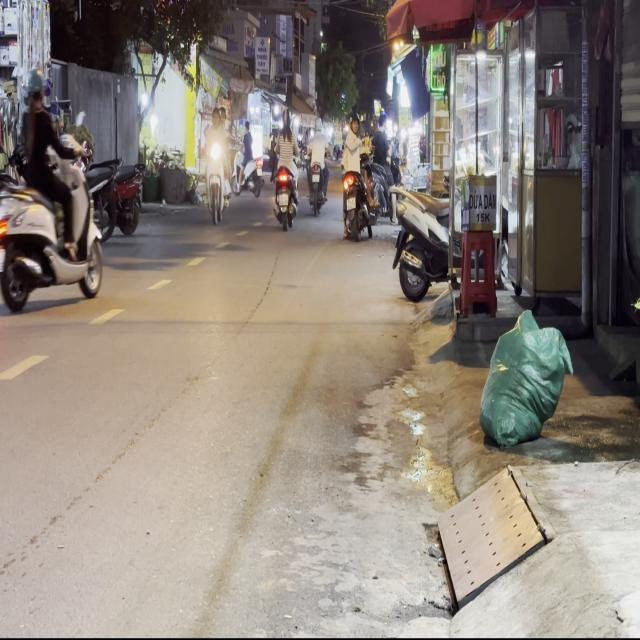helmet: (24, 69, 44, 109)
licenseplate: (0, 67, 106, 316)
nohelmet: (0, 246, 4, 268)
